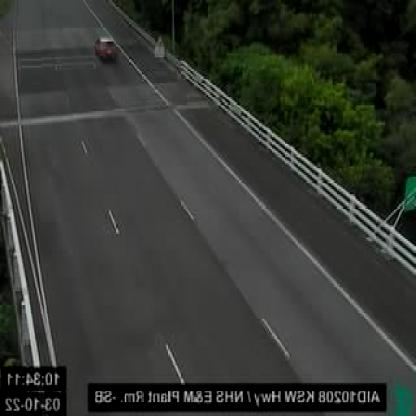Car: (96, 36, 118, 61)
